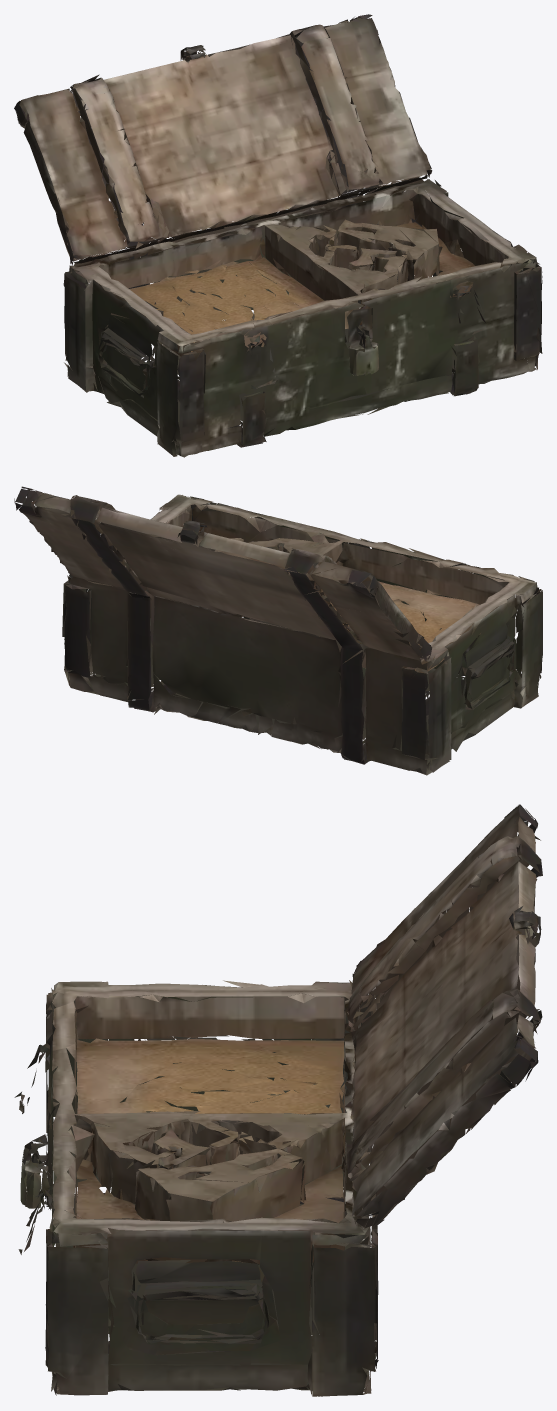
The model's file is military_crate_open.glb.
3 renders of one model, top to bottom at view 1: azimuth 30°, elevation 25°; view 2: azimuth 150°, elevation 25°; view 3: azimuth 270°, elevation 25°, orthographic. The views are drawn at different scales.
Visible parts, largest first — view 1: model; view 2: model; view 3: model.
Part boxes in pixels (left/top/right/bottom): model: left=14, top=14, right=542, bottom=457; model: left=14, top=486, right=542, bottom=775; model: left=14, top=804, right=542, bottom=1396.
Bounding box in the file's own units: 1.93 × 1.24 × 1.62.
1 material, 1 textured.
